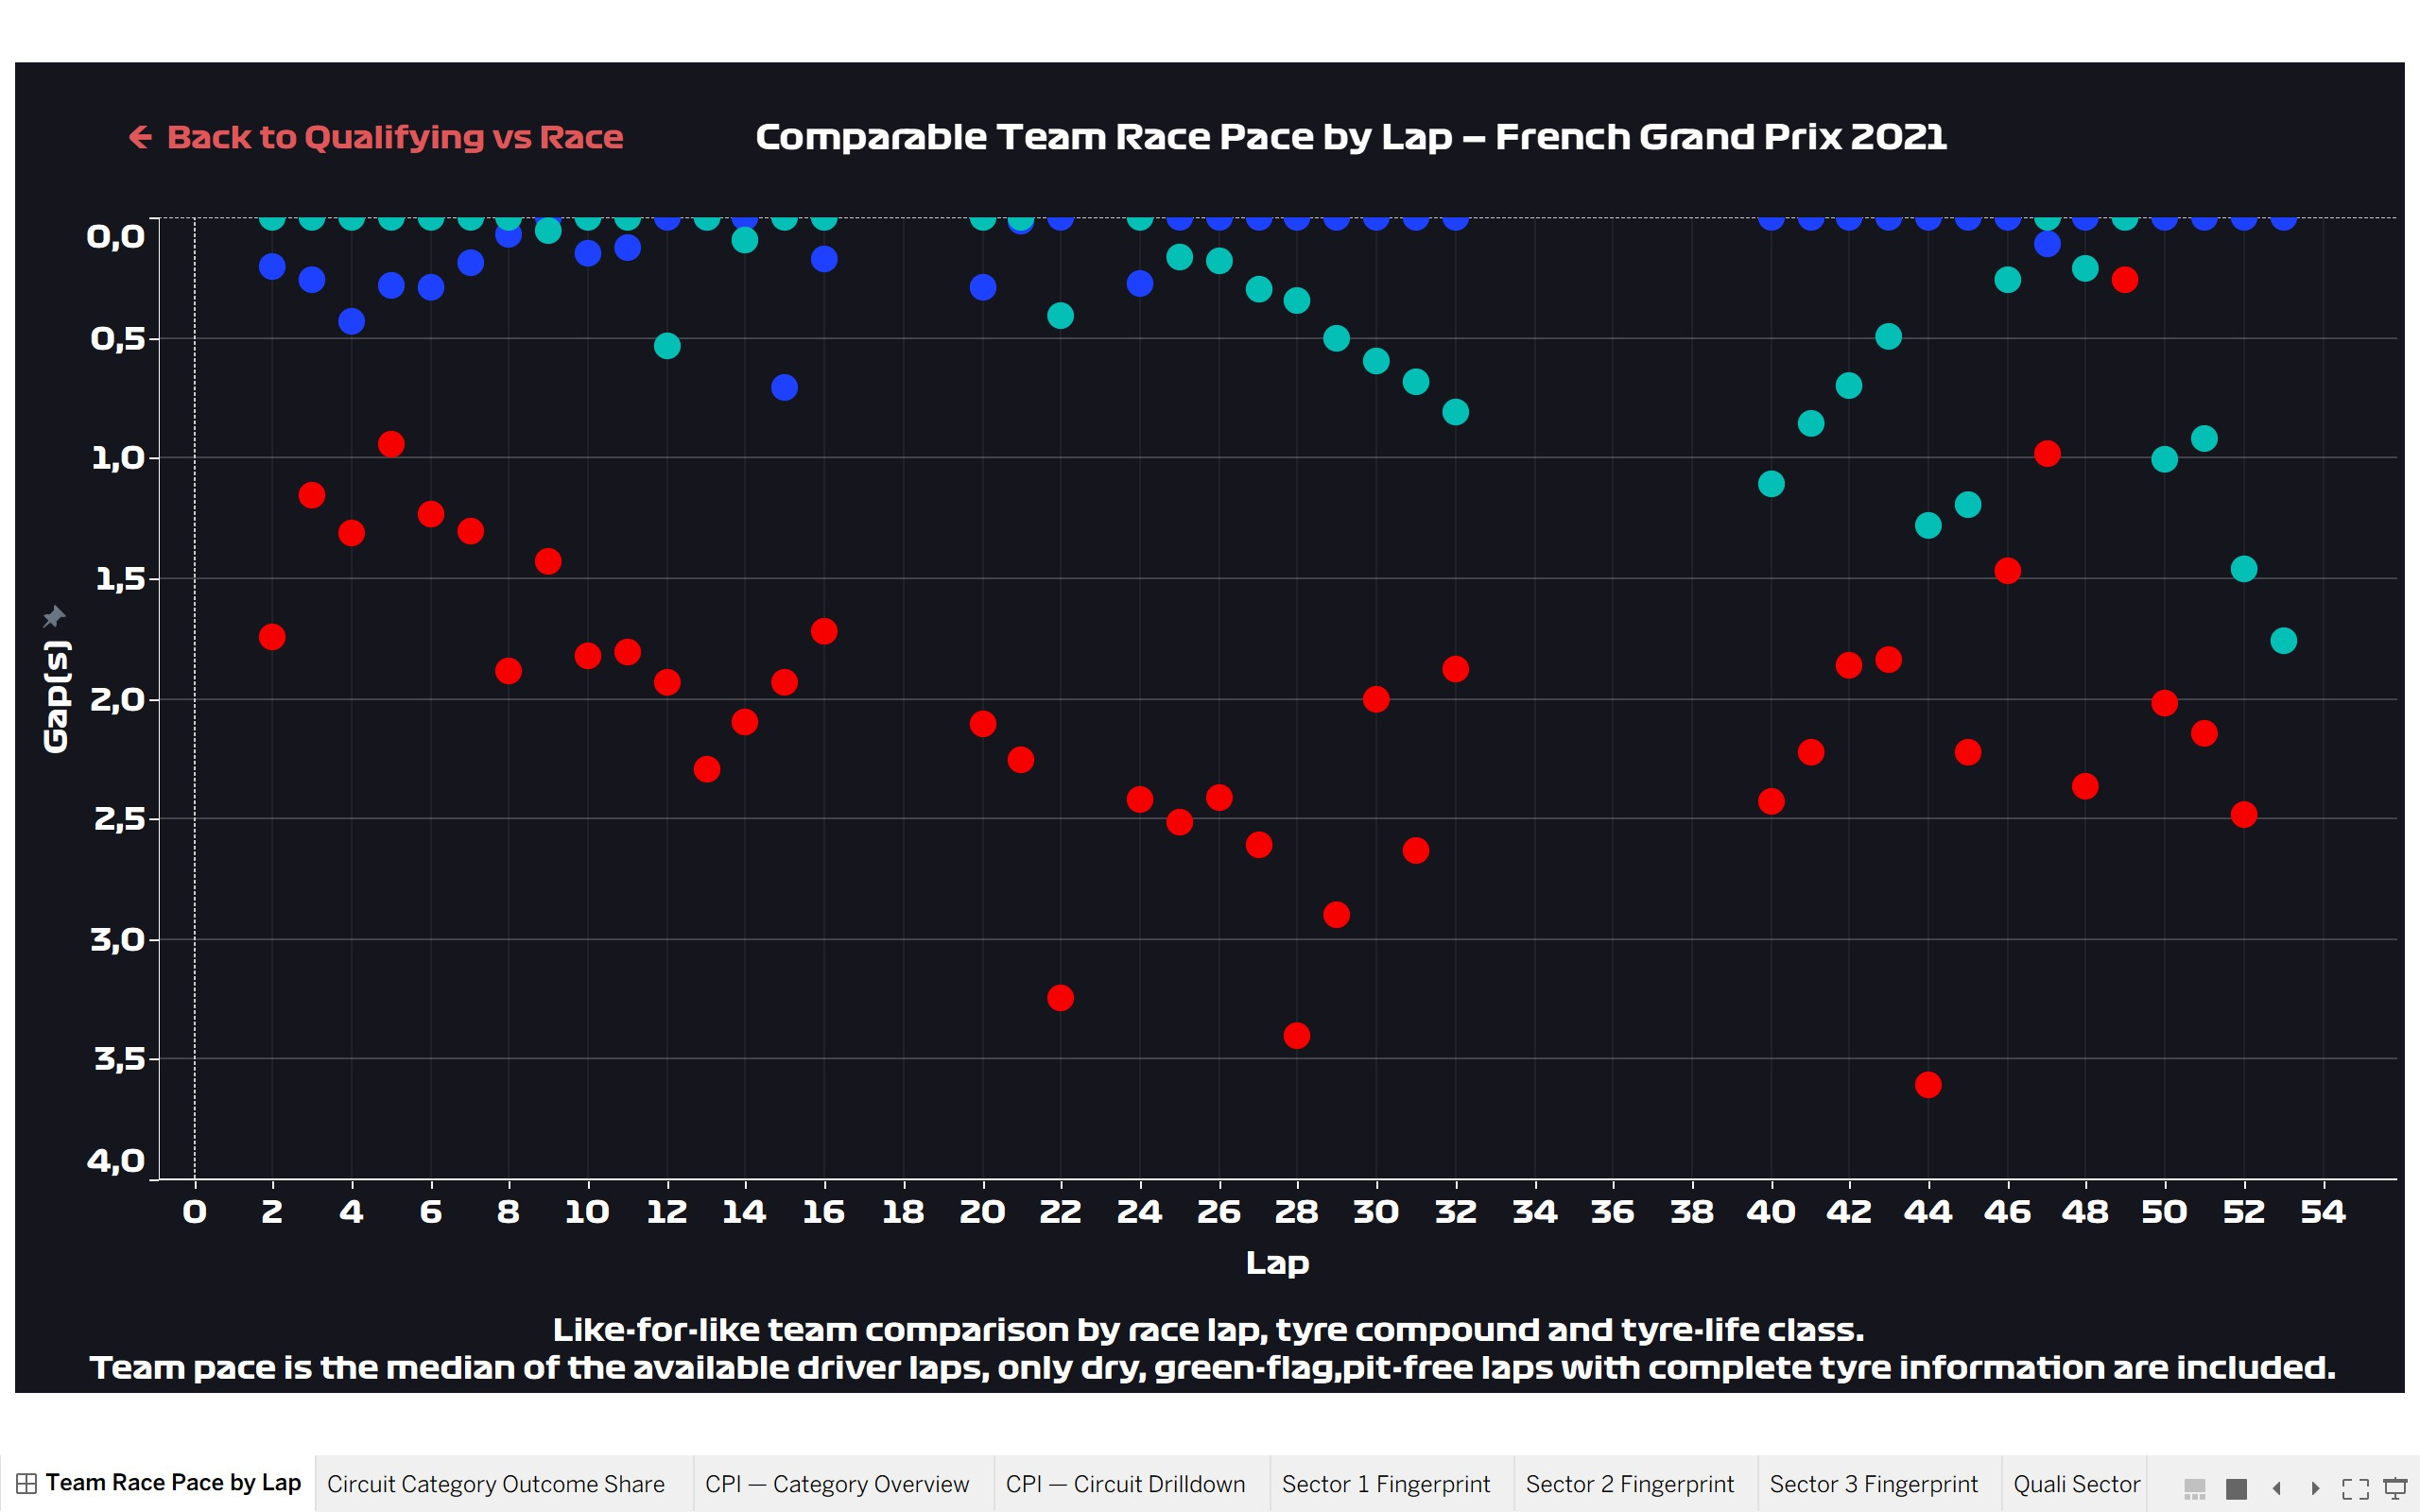

What the dashboard file says about the page in this screenshot:
{"tool":"tableau","page":{"name":"Team Race Pace by Lap","canvas":[1280,720],"ordinal":4},"visuals":[{"type":"dashboard-object","box":[8,8,383,78]},{"type":"worksheet","title":"Dynamic Race Lap Title","mark":"Automatic","box":[391,8,881,78]},{"type":"worksheet","title":"Comparable Team Race Pace by Lap","mark":"Circle","cols":["lap_number"],"box":[8,86,1264,626]}]}

Visuals, with their boxes on the page's 1280x720 design canvas (x1, y1, x2, y2). These are canvas units, not pixel positions in the 2420x1512 screenshot, which may show the page scaled, cropped or inside an application window:
dashboard-object: {"left": 8, "top": 8, "right": 391, "bottom": 86}
"Dynamic Race Lap Title" worksheet: {"left": 391, "top": 8, "right": 1272, "bottom": 86}
"Comparable Team Race Pace by Lap" worksheet (Circle marks): {"left": 8, "top": 86, "right": 1272, "bottom": 712}
